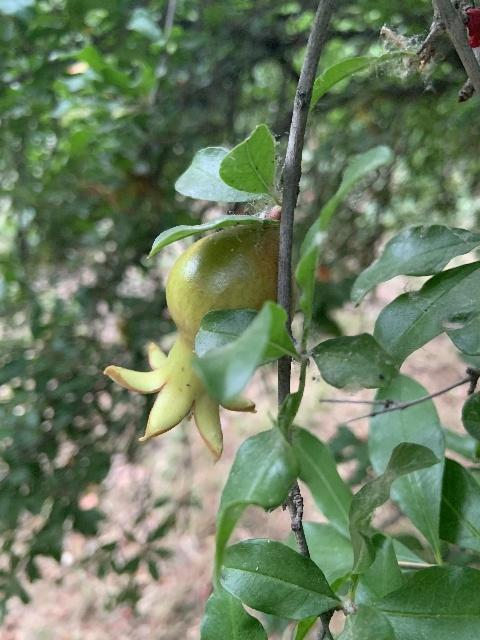mid-growth: (103, 213, 280, 463)
